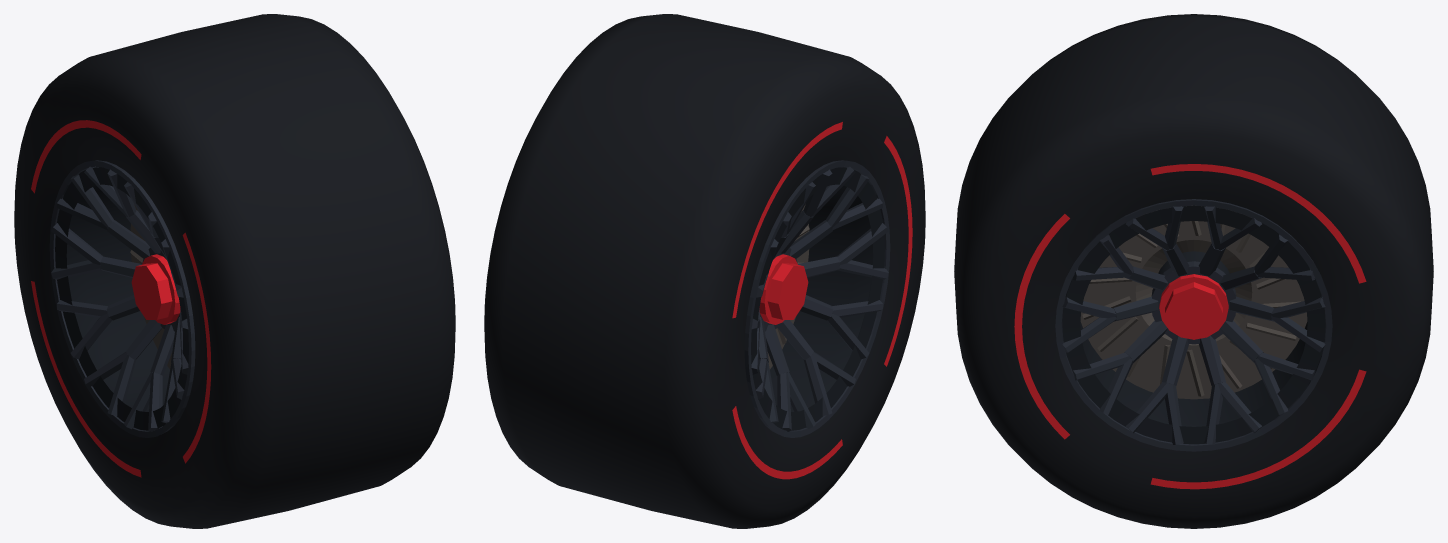
File: f1_wheel.glb
3 renders of one model, left to right at view 1: azimuth 30°, elevation 25°; view 2: azimuth 150°, elevation 25°; view 3: azimuth 270°, elevation 25°, orthographic. The views are drawn at different scales.
Visible parts, largest first — view 1: Tire_Tread, Wheel_Rim, Wheel_Aero_Drum, Compound_Sidewall, Center_Lock_Nut; view 2: Tire_Tread, Wheel_Rim, Wheel_Aero_Drum, Compound_Sidewall, Center_Lock_Nut; view 3: Tire_Tread, Wheel_Rim, Brake_Disc, Wheel_Aero_Drum, Compound_Sidewall, Center_Lock_Nut.
Boxes of the visible parts, bbox=[...] form: Tire_Tread: bbox=[14, 14, 455, 528]; Wheel_Rim: bbox=[49, 160, 195, 437]; Wheel_Aero_Drum: bbox=[55, 167, 188, 430]; Compound_Sidewall: bbox=[31, 120, 211, 477]; Center_Lock_Nut: bbox=[131, 254, 180, 324]; Tire_Tread: bbox=[484, 14, 925, 528]; Wheel_Rim: bbox=[744, 160, 890, 437]; Wheel_Aero_Drum: bbox=[751, 167, 884, 430]; Compound_Sidewall: bbox=[732, 122, 912, 479]; Center_Lock_Nut: bbox=[759, 254, 808, 324]; Tire_Tread: bbox=[954, 14, 1433, 528]; Wheel_Rim: bbox=[1055, 199, 1332, 451]; Brake_Disc: bbox=[1080, 205, 1307, 399]; Wheel_Aero_Drum: bbox=[1062, 205, 1325, 444]; Compound_Sidewall: bbox=[1014, 164, 1366, 489]; Center_Lock_Nut: bbox=[1159, 274, 1228, 339].
Size of the model in its own units: 0.3843 by 0.692 by 0.692.
